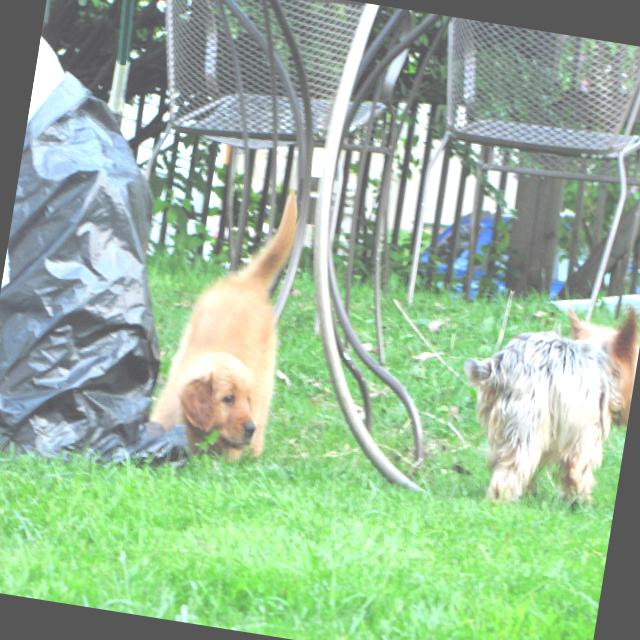Vehicle: (401, 197, 575, 317)
